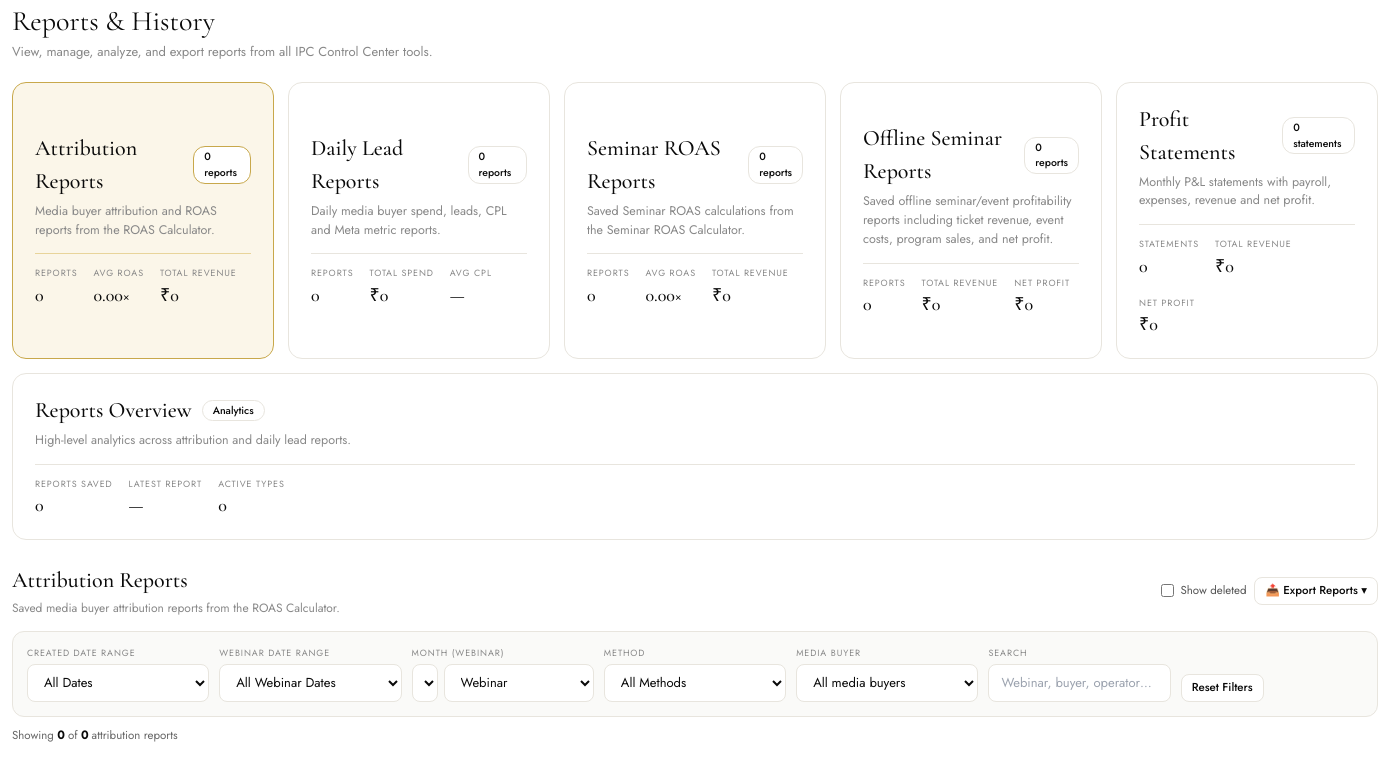
Test: Reports List Queries Narrowing Test › should render profit_statements list with mocked data
Click the button "Profit Statements".
click(1164, 118)  # box [1116, 82, 1378, 359]
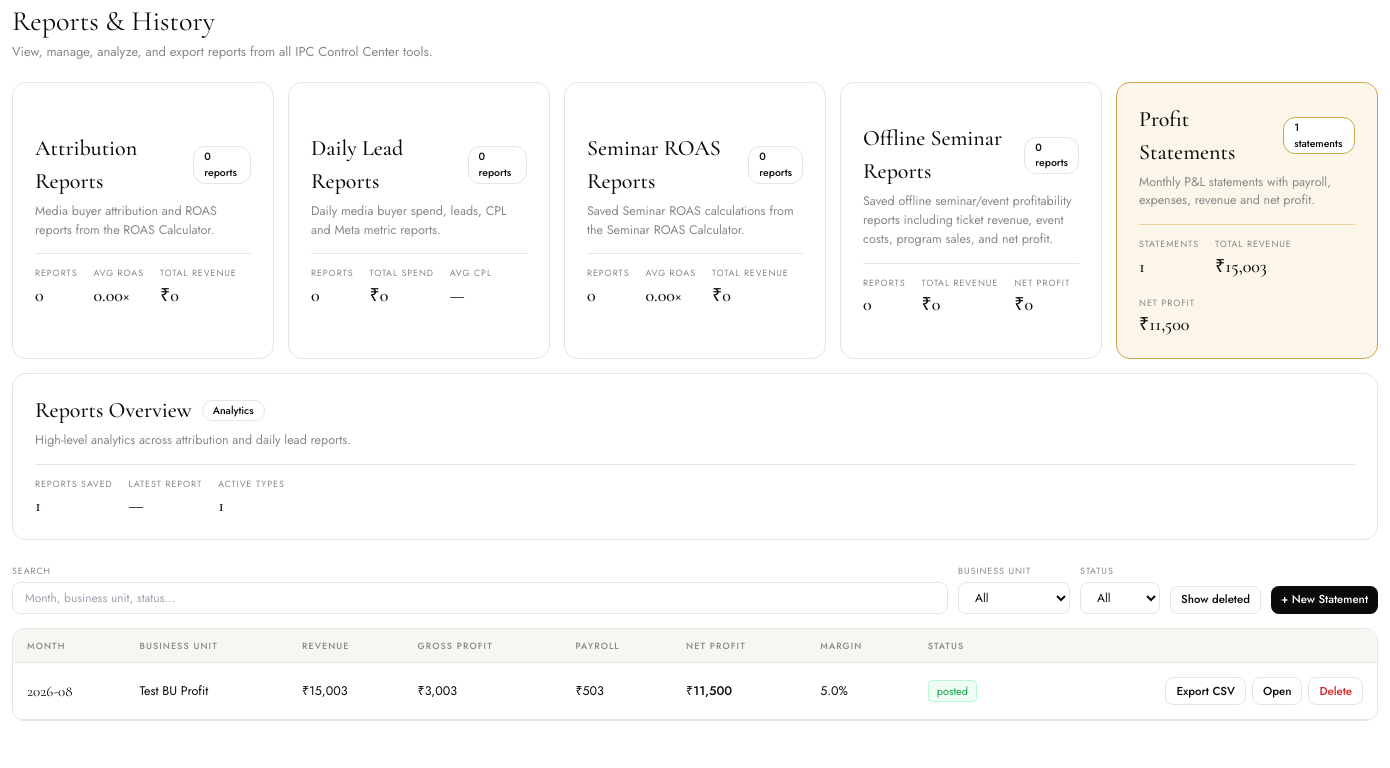
Expected: the text "Test BU Profit" is shown, [126, 663, 288, 720]
